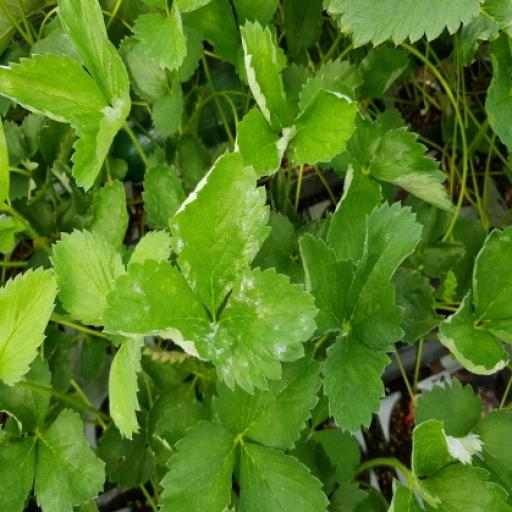Powdery Mildew Leaf: (166, 146, 272, 316), (211, 265, 320, 397), (100, 257, 218, 363), (436, 288, 511, 376), (69, 91, 132, 193), (284, 85, 358, 170), (239, 17, 292, 133), (411, 418, 487, 480), (233, 106, 295, 178)
